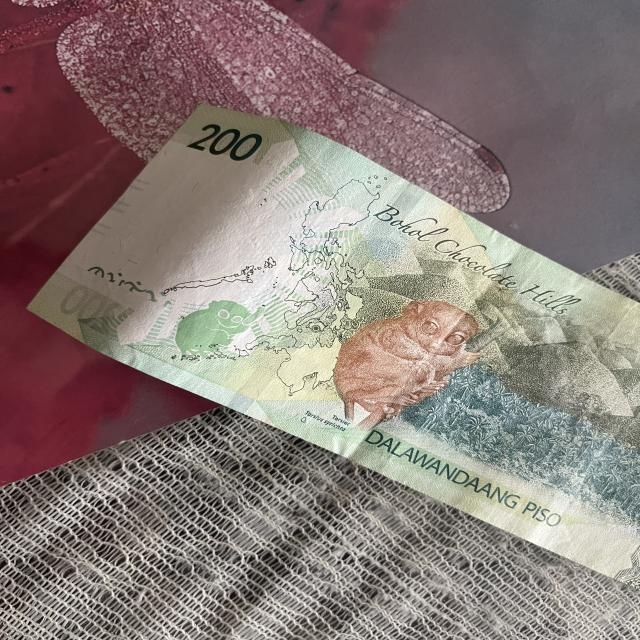200_tarsier: (313, 288, 483, 441)
200_tarsier_watermark: (149, 298, 268, 362)
